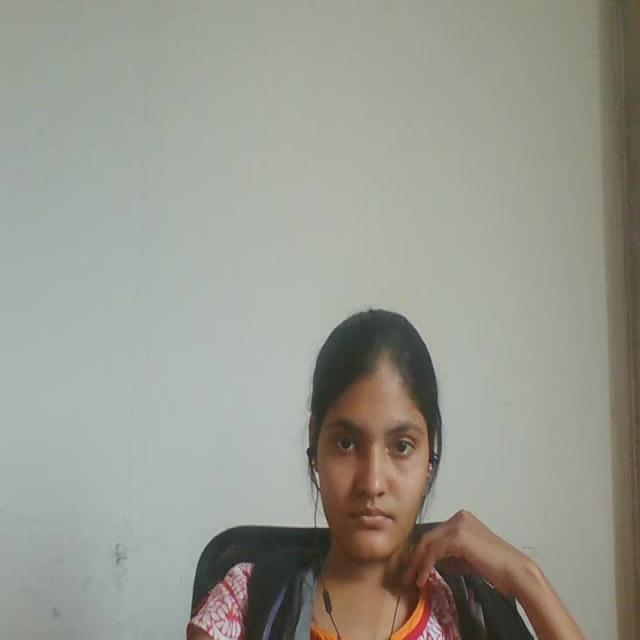Engaged: (286, 286, 478, 588)
